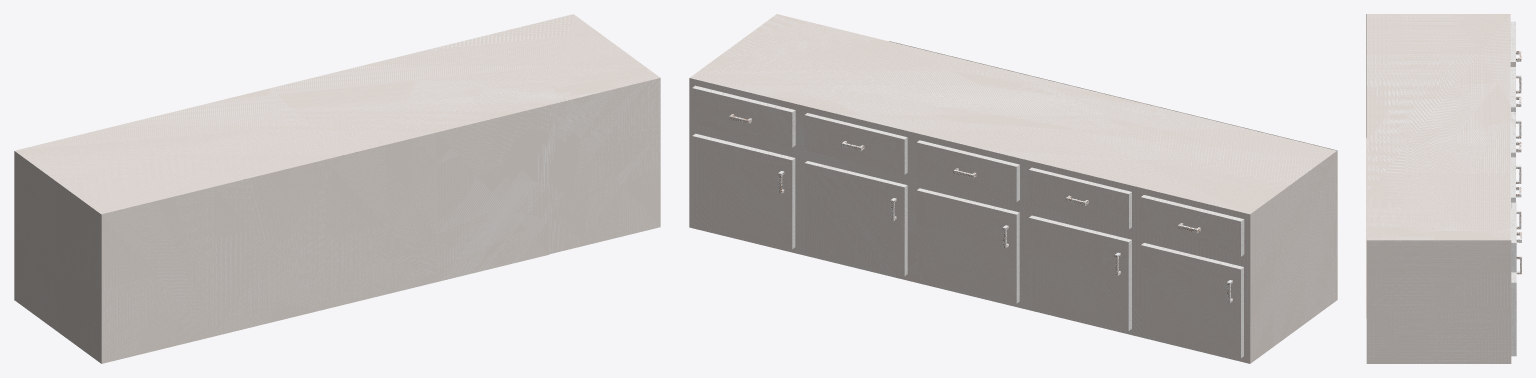
The picture shows the model from 3 angles, left to right: view 1: azimuth 30°, elevation 25°; view 2: azimuth 150°, elevation 25°; view 3: azimuth 270°, elevation 25°; orthographic projection. The views are drawn at different scales.
Visible parts, largest first — view 1: mesh1_mesh1-geometry; view 2: mesh1_mesh1-geometry, mesh3_mesh3-geometry, mesh8_mesh8-geometry, mesh6_mesh6-geometry, mesh4_mesh4-geometry, mesh10_mesh10-geometry, mesh11_mesh11-geometry, mesh2_mesh2-geometry, mesh9_mesh9-geometry, mesh7_mesh7-geometry, mesh5_mesh5-geometry; view 3: mesh1_mesh1-geometry, mesh3_mesh3-geometry, mesh2_mesh2-geometry, mesh11_mesh11-geometry, mesh9_mesh9-geometry, mesh7_mesh7-geometry, mesh5_mesh5-geometry.
Boxes of the visible parts, x1,y1,x2,y2 form: mesh1_mesh1-geometry: (14,14,660,363); mesh1_mesh1-geometry: (689,14,1337,363); mesh3_mesh3-geometry: (692,133,795,249); mesh8_mesh8-geometry: (1028,215,1131,330); mesh6_mesh6-geometry: (916,188,1019,303); mesh4_mesh4-geometry: (804,161,907,276); mesh10_mesh10-geometry: (1141,243,1243,358); mesh11_mesh11-geometry: (1140,195,1244,256); mesh2_mesh2-geometry: (692,85,795,147); mesh9_mesh9-geometry: (1028,167,1131,229); mesh7_mesh7-geometry: (916,140,1019,201); mesh5_mesh5-geometry: (804,113,907,174); mesh1_mesh1-geometry: (1366,14,1511,363); mesh3_mesh3-geometry: (1511,256,1521,356); mesh2_mesh2-geometry: (1511,202,1521,272); mesh11_mesh11-geometry: (1510,21,1521,66); mesh9_mesh9-geometry: (1510,67,1521,111); mesh7_mesh7-geometry: (1511,112,1521,157); mesh5_mesh5-geometry: (1511,157,1521,208).
Size of the model in its own units: 0.9325 by 0.2379 by 0.2716.
